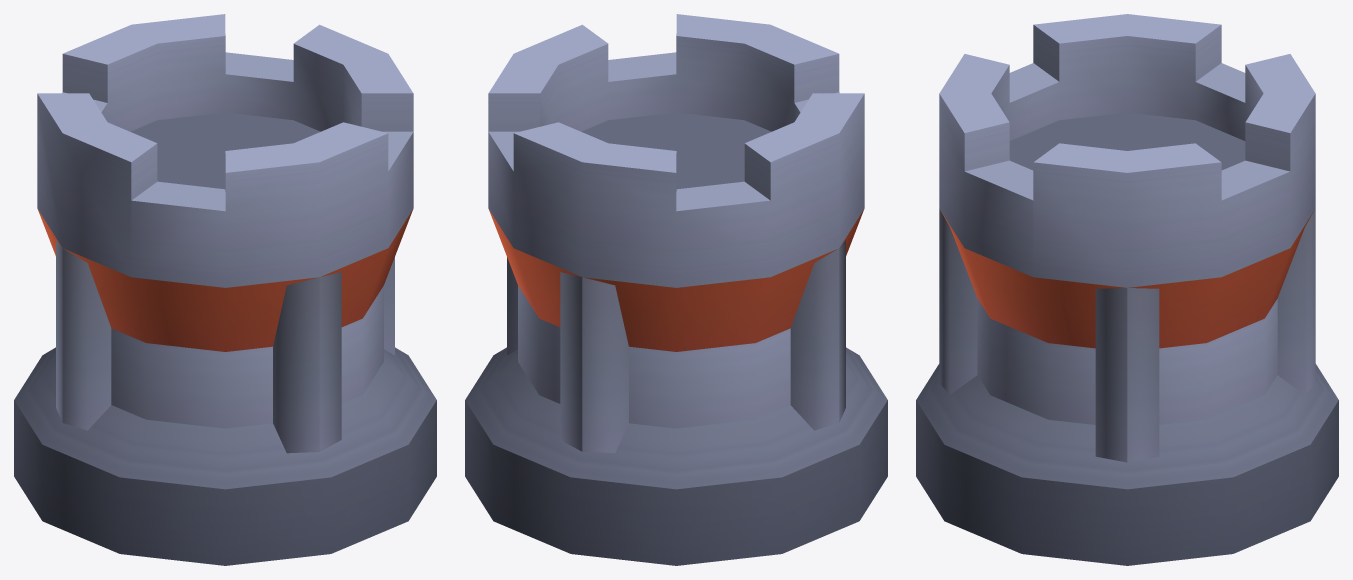
The model's file is kenney-tower-defense-tower-round-build-a.glb.
3 views of the same model, side by side, from view 1: azimuth 30°, elevation 25°; view 2: azimuth 150°, elevation 25°; view 3: azimuth 270°, elevation 25° (orthographic).
Visible parts, largest first — view 1: tower-round-build-a; view 2: tower-round-build-a; view 3: tower-round-build-a.
Part boxes in pixels (bbox=[...]): tower-round-build-a: bbox=[14, 14, 436, 565]; tower-round-build-a: bbox=[465, 14, 887, 565]; tower-round-build-a: bbox=[916, 14, 1338, 565].
Size of the model in its own units: 1 by 1 by 1.
1 material, 1 textured.
